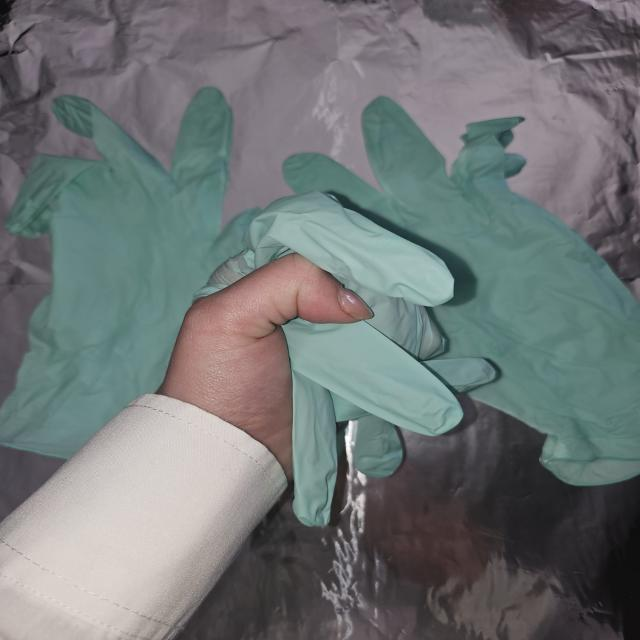glove_partial: (155, 191, 467, 527)
